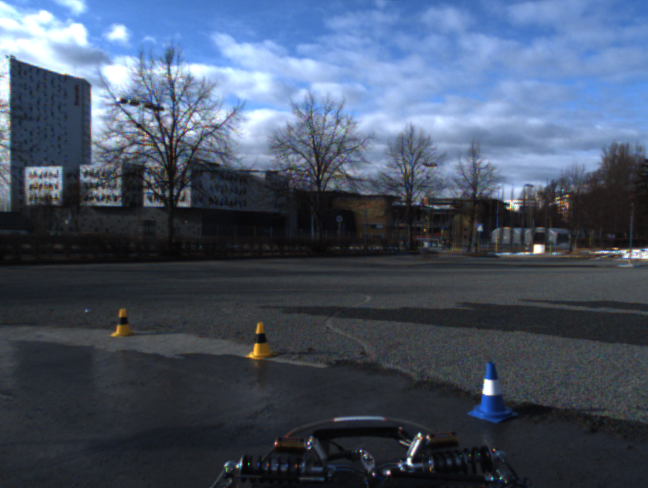cone-small-blue: (467, 362, 520, 423)
cone-small-yellow: (244, 321, 279, 360), (109, 307, 134, 338)
